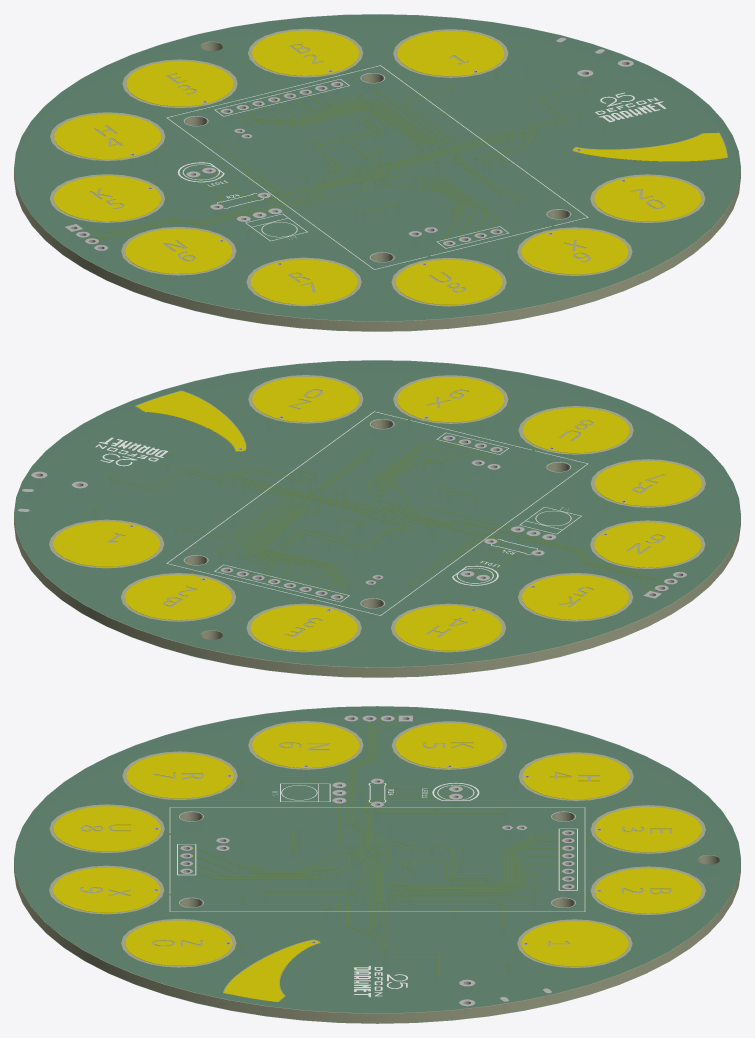
File: darknet-badge.glb
3 views of the same model, one above another, from view 1: azimuth 30°, elevation 25°; view 2: azimuth 150°, elevation 25°; view 3: azimuth 270°, elevation 25° (orthographic).
Parts seen in each view (by area): view 1: =>[0:1:1:9], =>[0:1:1:7], =>[0:1:1:2], =>[0:1:1:5]; view 2: =>[0:1:1:9], =>[0:1:1:7], =>[0:1:1:2], =>[0:1:1:5]; view 3: =>[0:1:1:9], =>[0:1:1:7], =>[0:1:1:2], =>[0:1:1:5].
Part boxes in pixels (left/top/right/bottom): =>[0:1:1:9]: left=14, top=15, right=740, bottom=331; =>[0:1:1:7]: left=14, top=14, right=740, bottom=331; =>[0:1:1:2]: left=54, top=30, right=726, bottom=304; =>[0:1:1:5]: left=166, top=65, right=666, bottom=269; =>[0:1:1:9]: left=14, top=361, right=740, bottom=677; =>[0:1:1:7]: left=14, top=360, right=740, bottom=677; =>[0:1:1:2]: left=18, top=377, right=701, bottom=650; =>[0:1:1:5]: left=95, top=411, right=588, bottom=615; =>[0:1:1:9]: left=14, top=707, right=740, bottom=1023; =>[0:1:1:7]: left=14, top=706, right=740, bottom=1023; =>[0:1:1:2]: left=53, top=715, right=701, bottom=1006; =>[0:1:1:5]: left=169, top=782, right=585, bottom=997.
Bounding box in the file's own units: 0.1016 × 0.00166 × 0.1016.
Materials: 4 (4 with a texture image).
